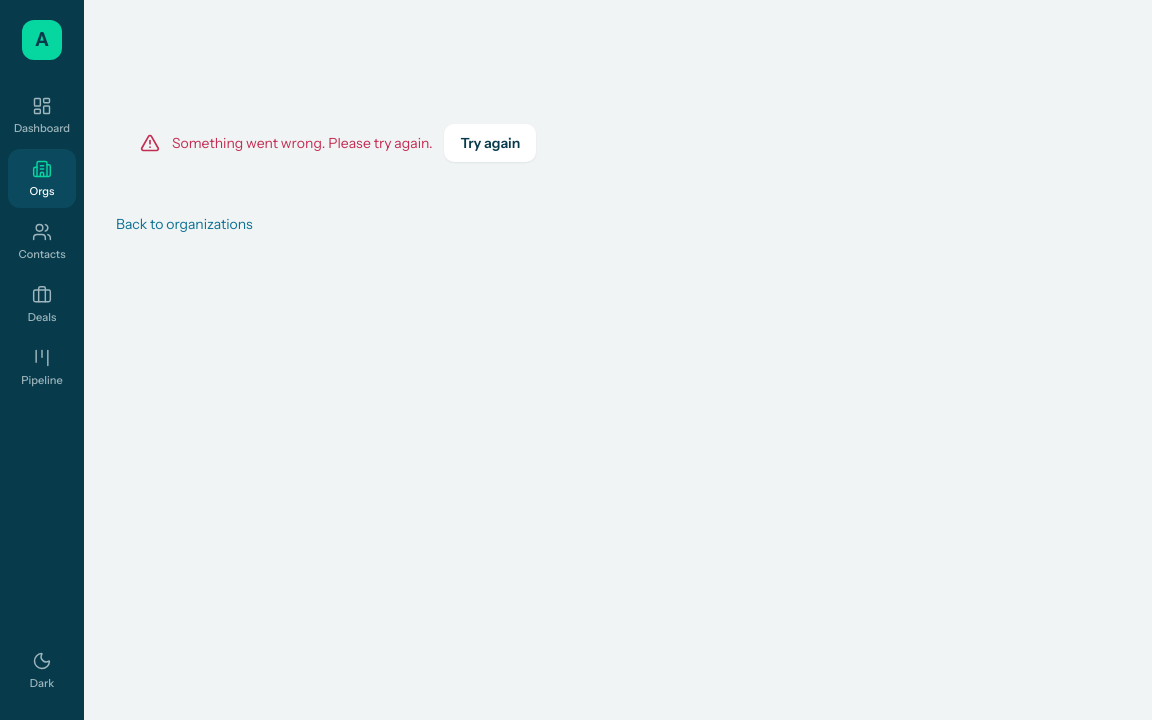
Test: an organization's page › tries loading again after an error
Expected: the message shows "Something went wrong. Please try again.", [172, 134, 432, 152]
Click the button "Try again".
click(490, 143)  # box [444, 124, 536, 162]
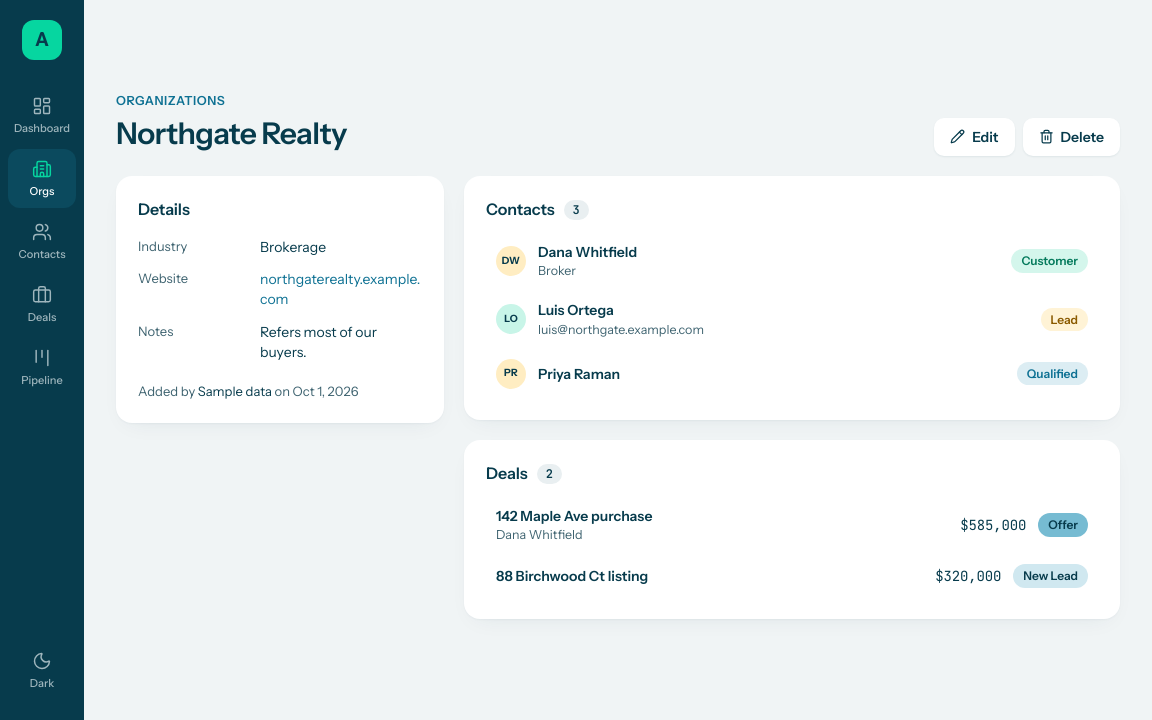
Expected: the heading "Northgate Realty" is shown, [116, 112, 347, 156]
